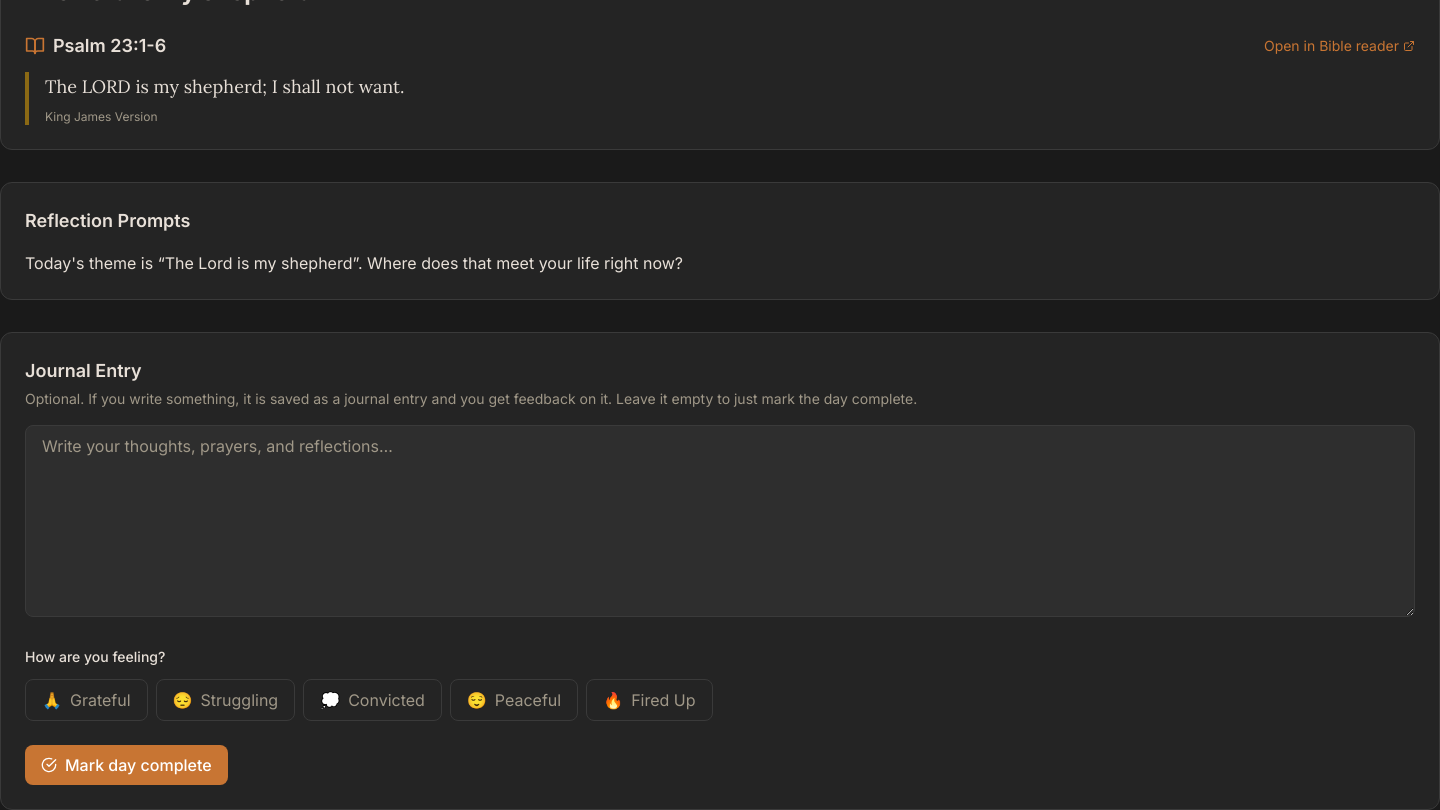
Test: ReadingPage › only marks the day complete when nothing was written
The image size is (1440, 810).
(page scrolled)
Click the button "Mark day complete".
click(126, 765)  # box [25,745,228,785]
(page scrolled)
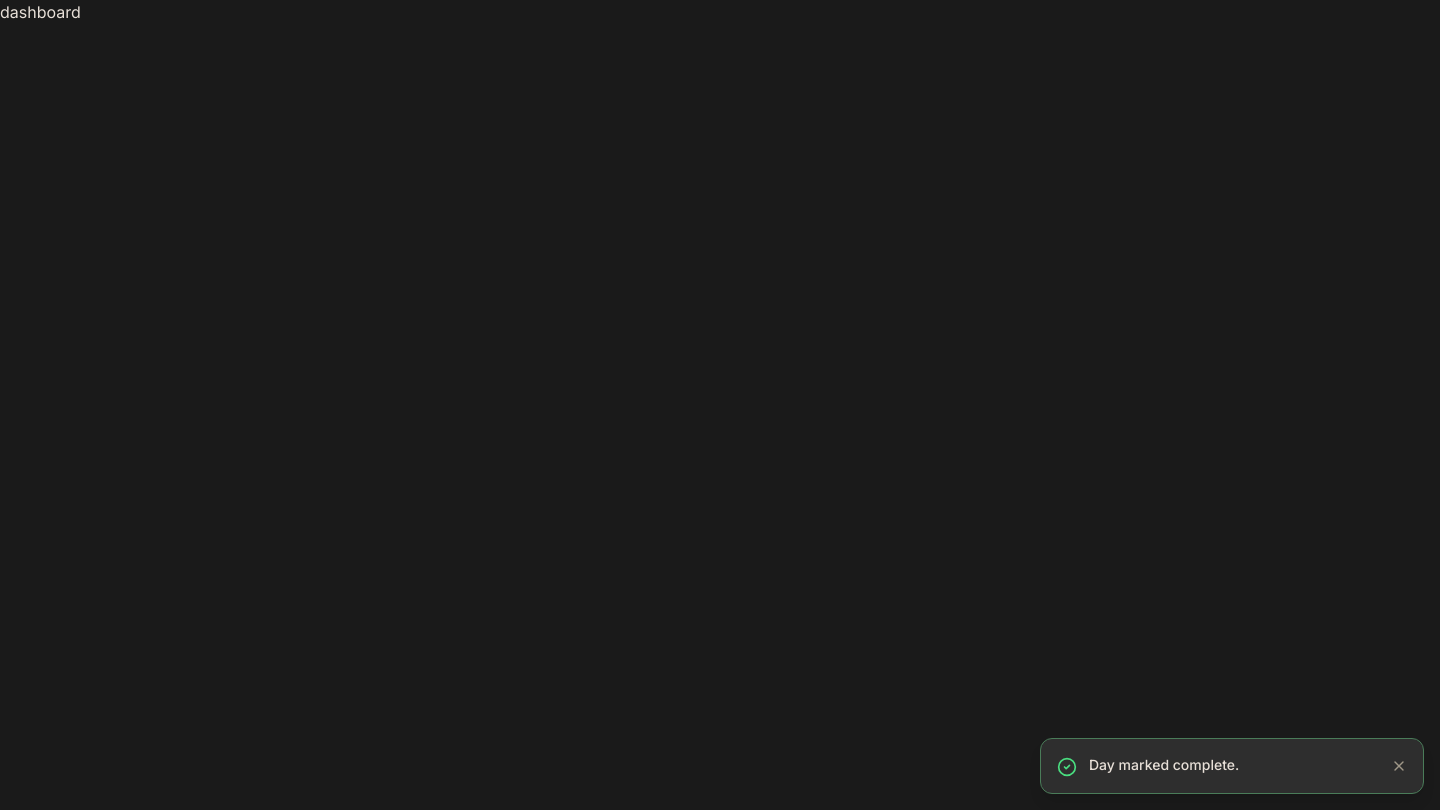
Result: the text "dashboard" is shown at [0,2,81,22]
